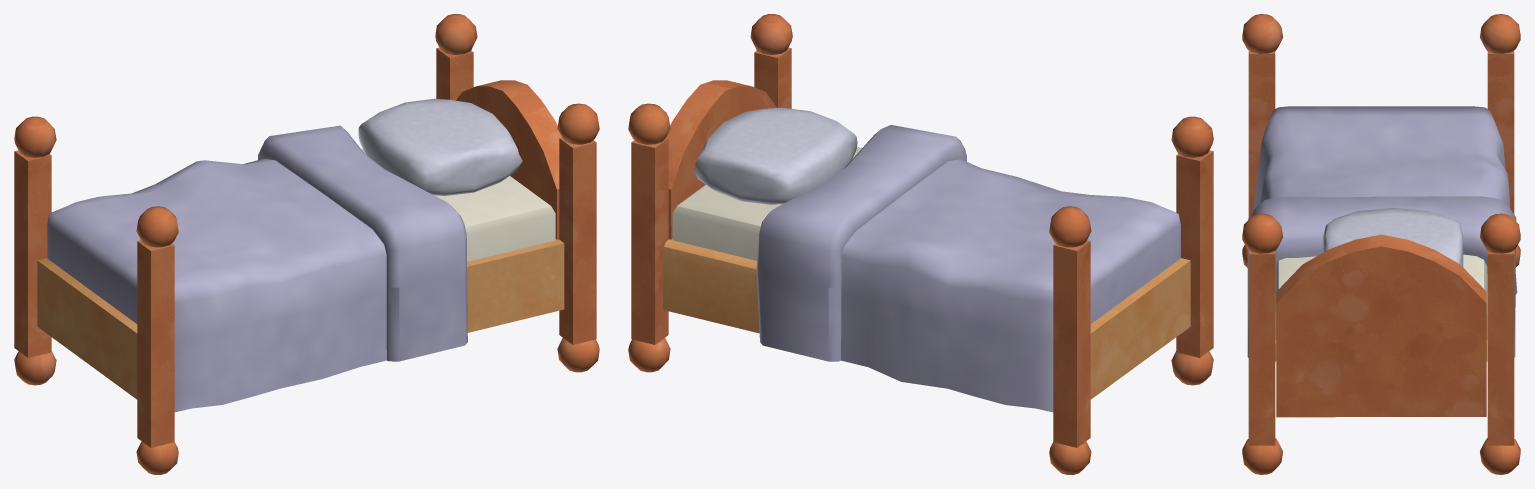
Rendered from SM_Bed.fbx.
3 views of the same model, side by side, from view 1: azimuth 30°, elevation 25°; view 2: azimuth 150°, elevation 25°; view 3: azimuth 270°, elevation 25° (orthographic). The views are drawn at different scales.
Visible parts, largest first — view 1: SM_Bed; view 2: SM_Bed; view 3: SM_Bed.
Boxes of the visible parts, <box> form: SM_Bed: <box>14,14,599,474</box>; SM_Bed: <box>628,14,1213,474</box>; SM_Bed: <box>1242,14,1520,474</box>.
Size of the model in its own units: 208 by 115 by 113.
